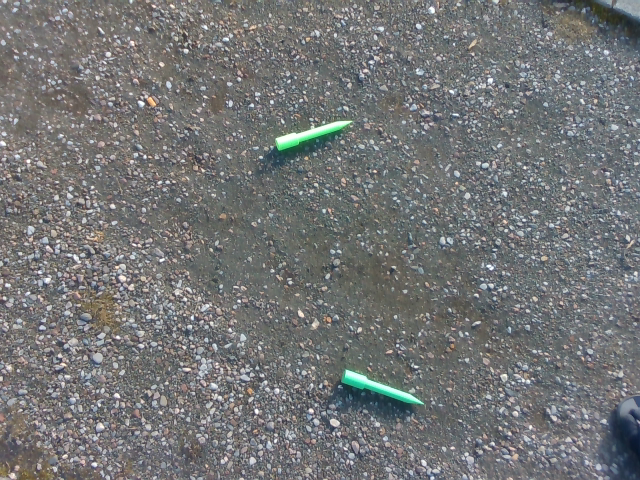Probe: (338, 367, 432, 412), (270, 117, 357, 159)
